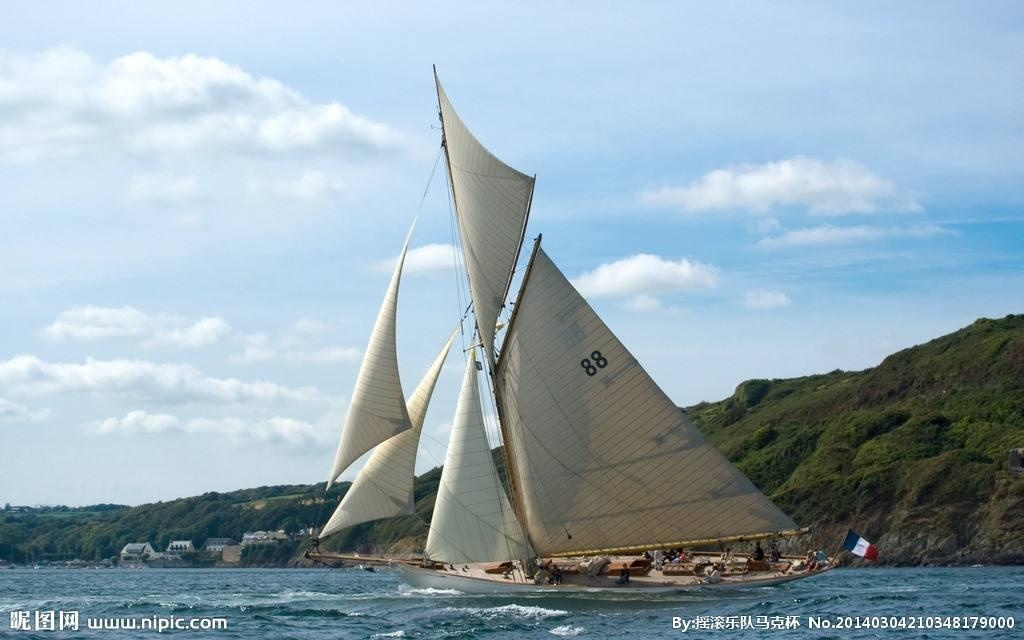fanchuan: (311, 62, 831, 600)
